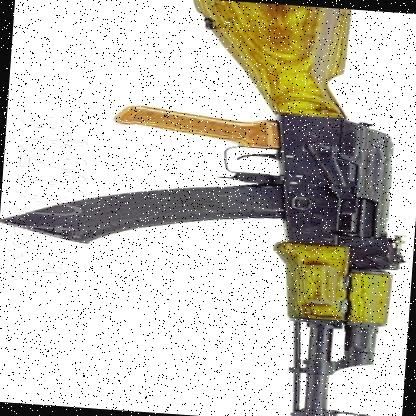rifle: (54, 0, 416, 416)
